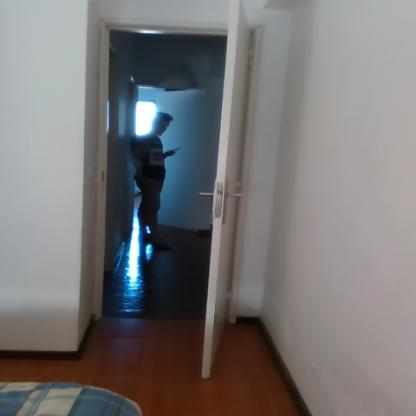open: (78, 8, 276, 370)
